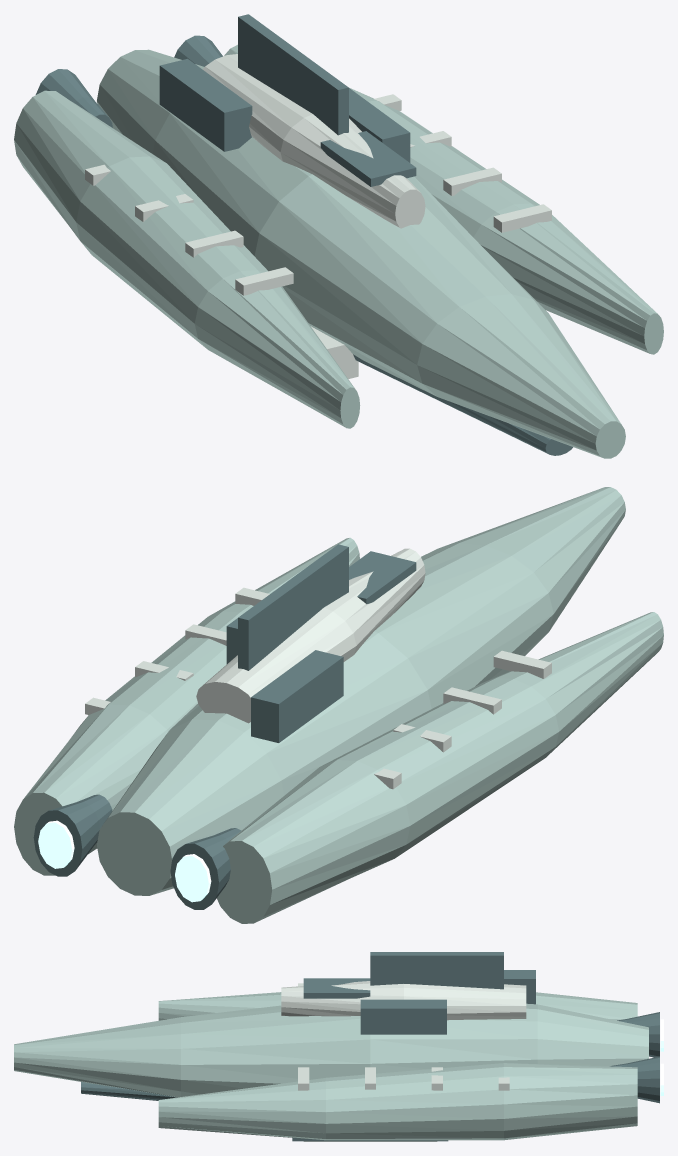
The picture shows the model from 3 angles, top to bottom: view 1: azimuth 30°, elevation 25°; view 2: azimuth 150°, elevation 25°; view 3: azimuth 270°, elevation 25°; orthographic projection. The views are drawn at different scales.
Bounding box in the file's own units: 7.81 × 4.89 × 18.08.
